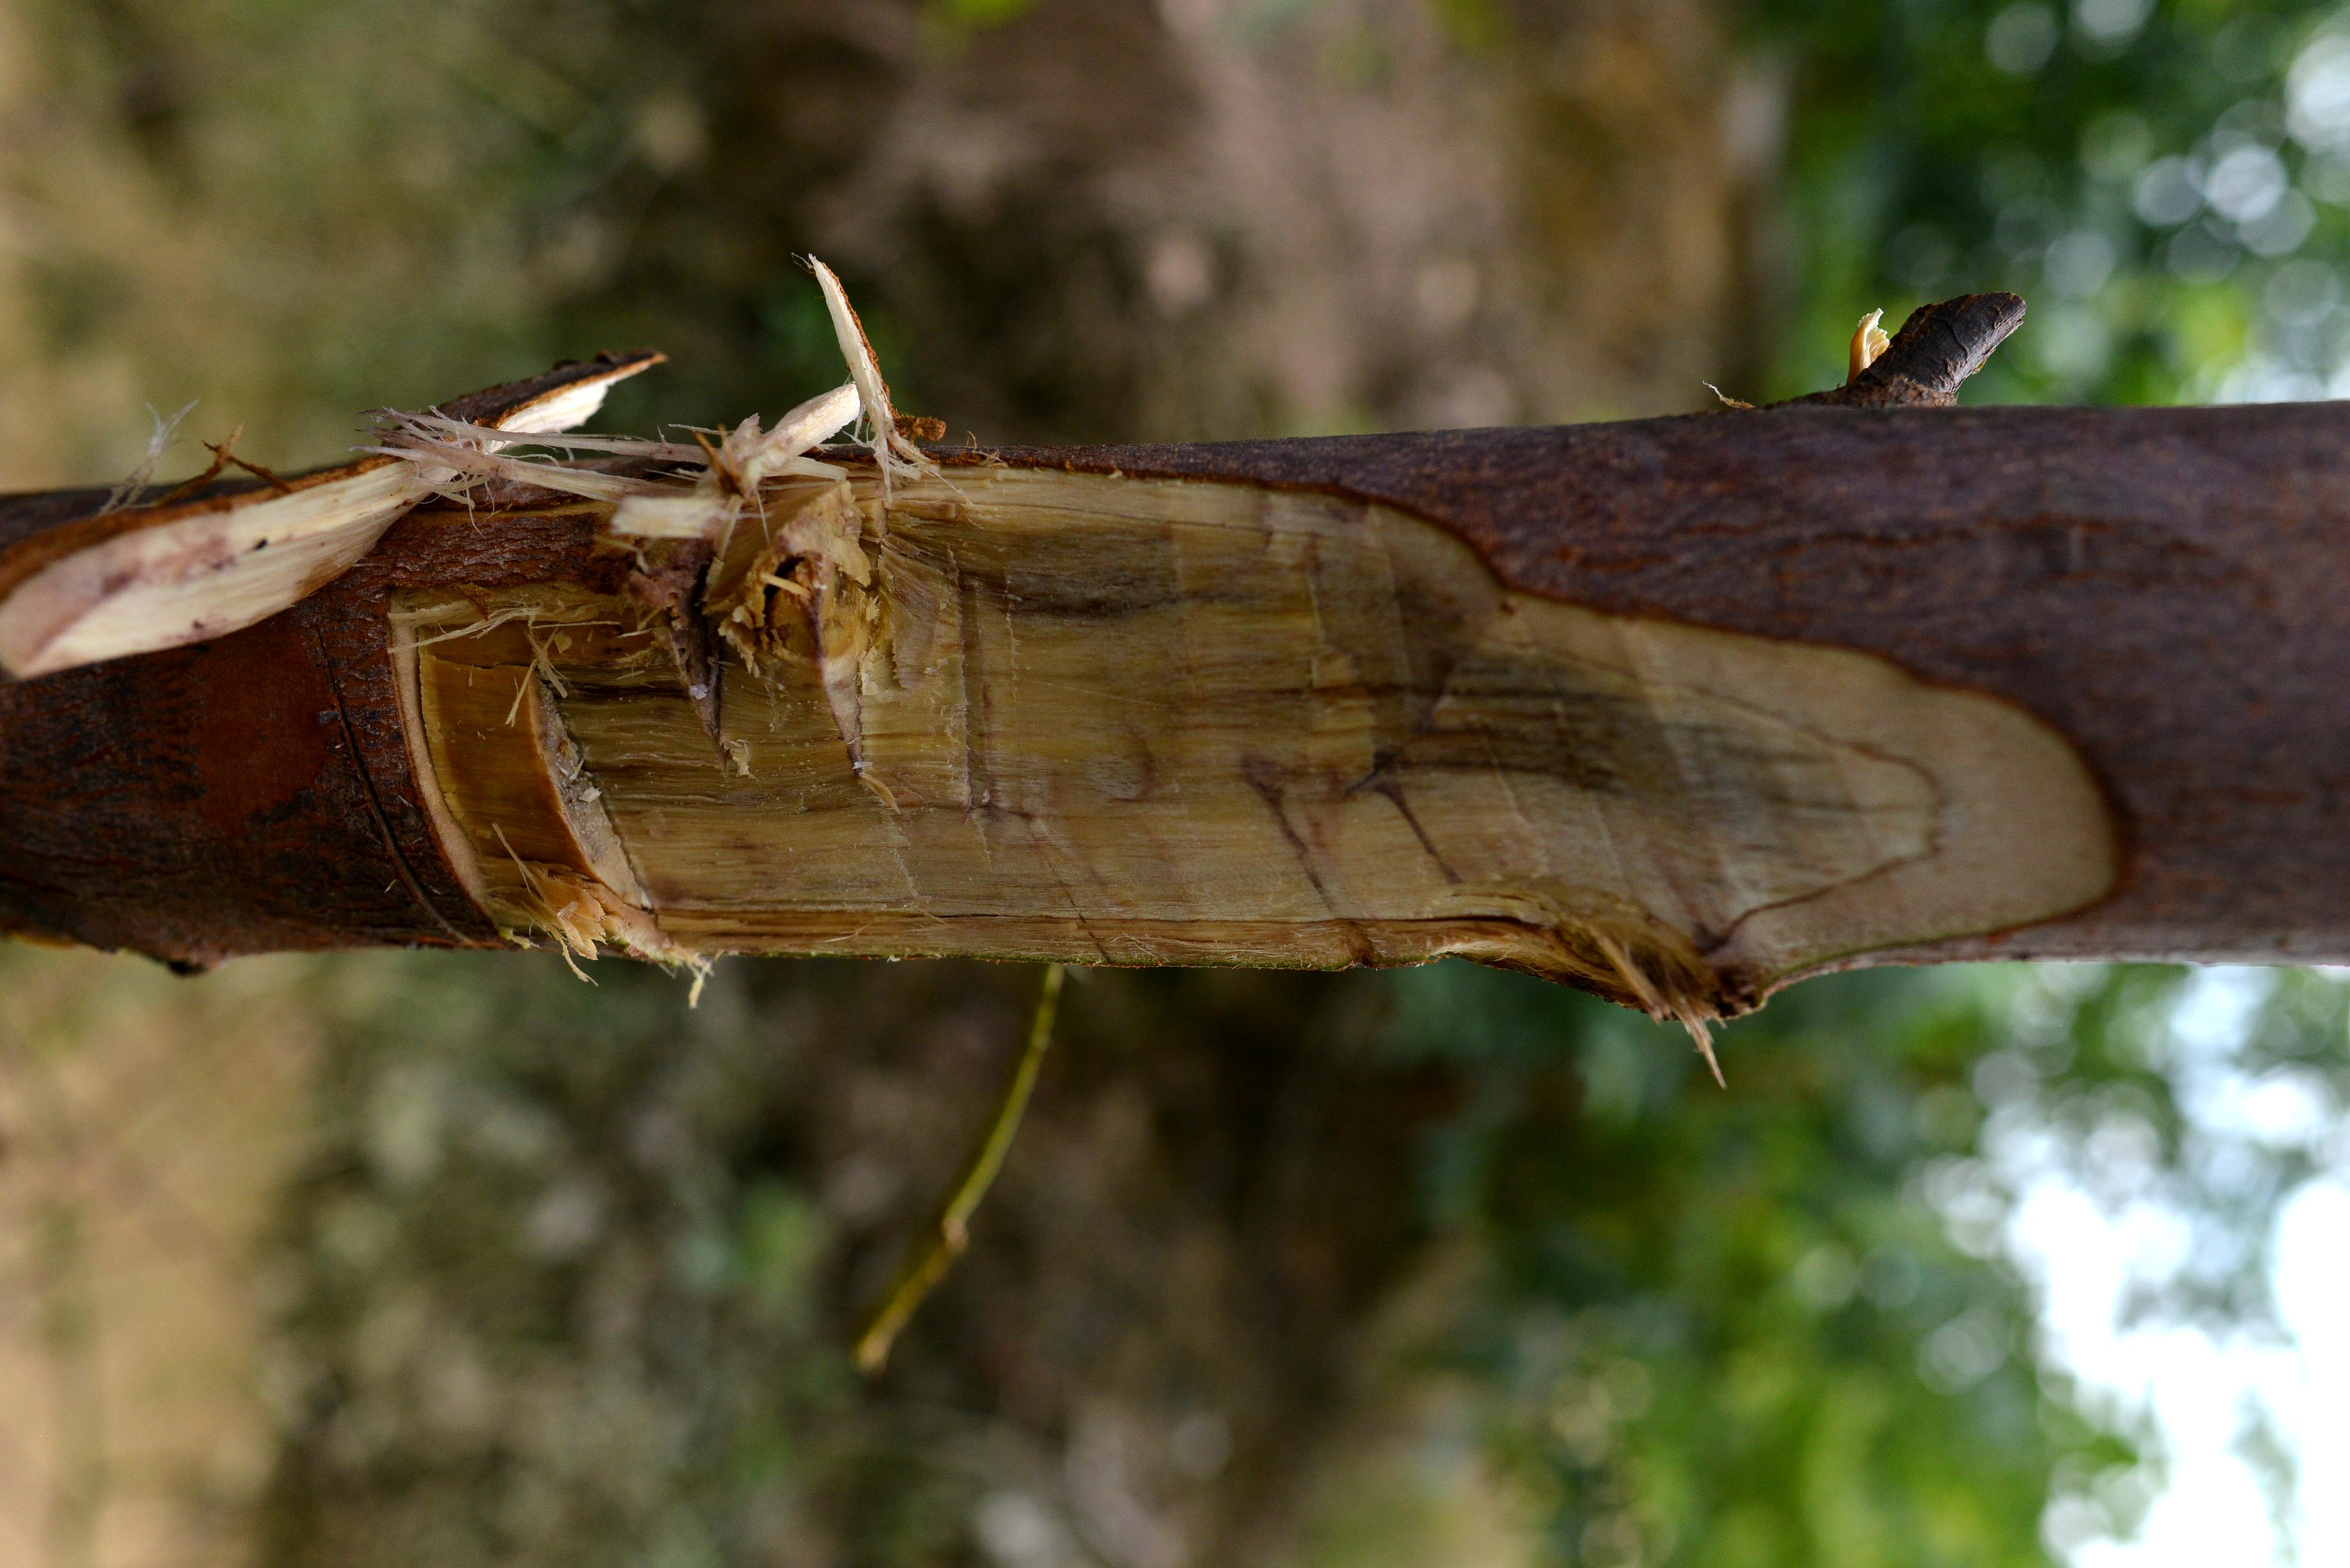Ralstonia: (553, 537, 1930, 971)
